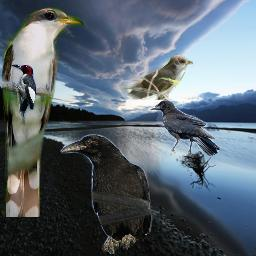Crow: (60, 134, 153, 254), (150, 100, 220, 156)
Cuckoo: (0, 6, 85, 217), (117, 54, 193, 100)
Woodpecker: (12, 64, 36, 125)
